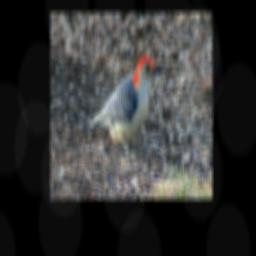Woodpecker: (87, 56, 165, 160)
